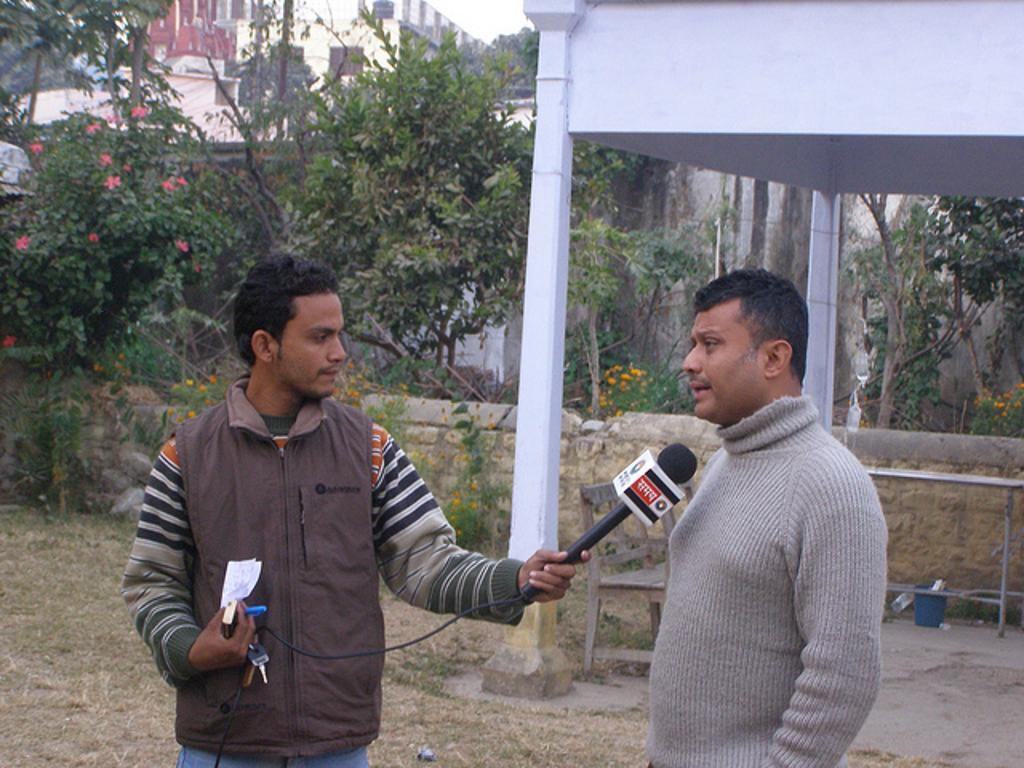face: (686, 300, 758, 414), (286, 292, 346, 390)
